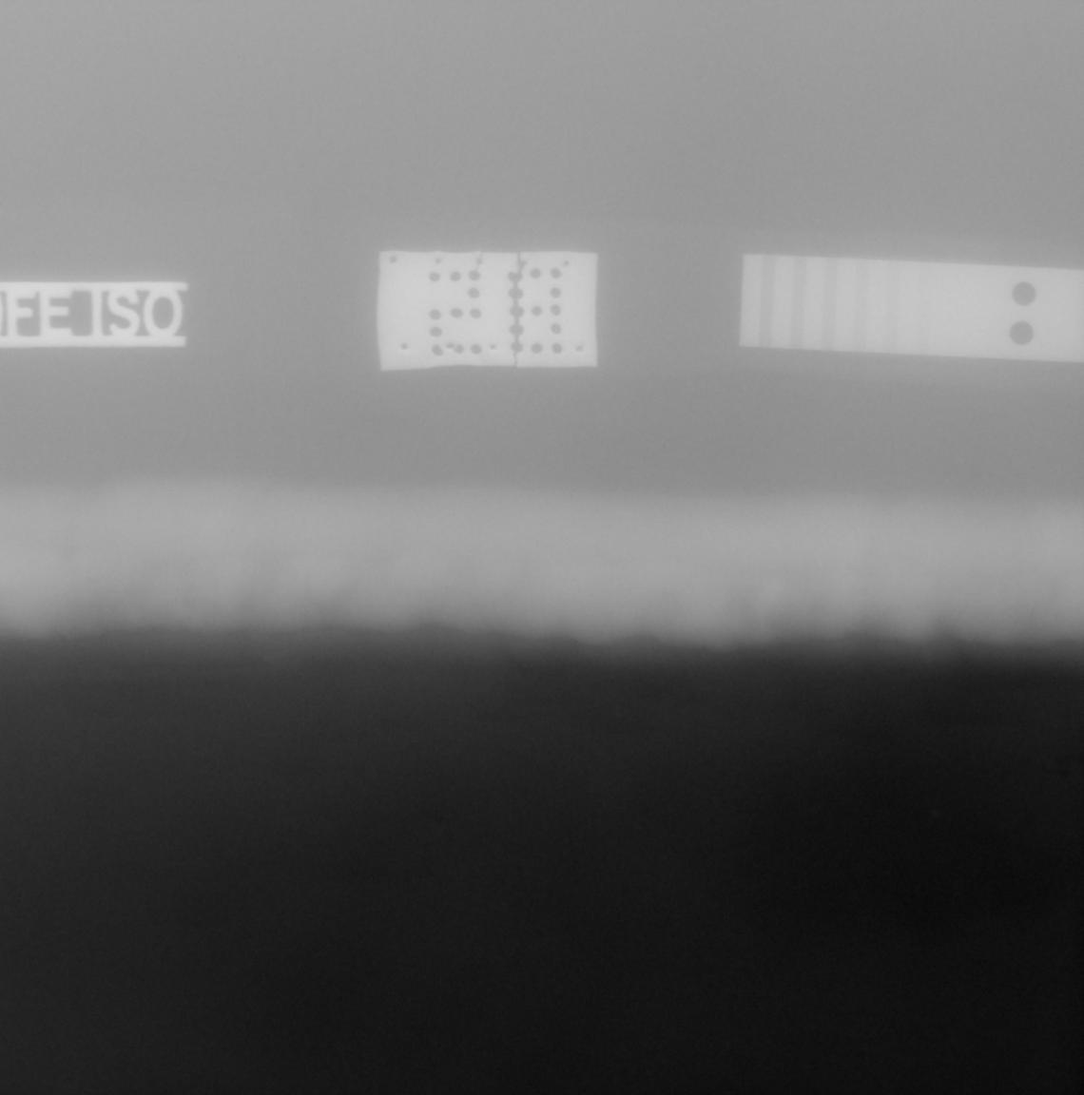Pore/Porosity: (181, 596, 198, 608)
